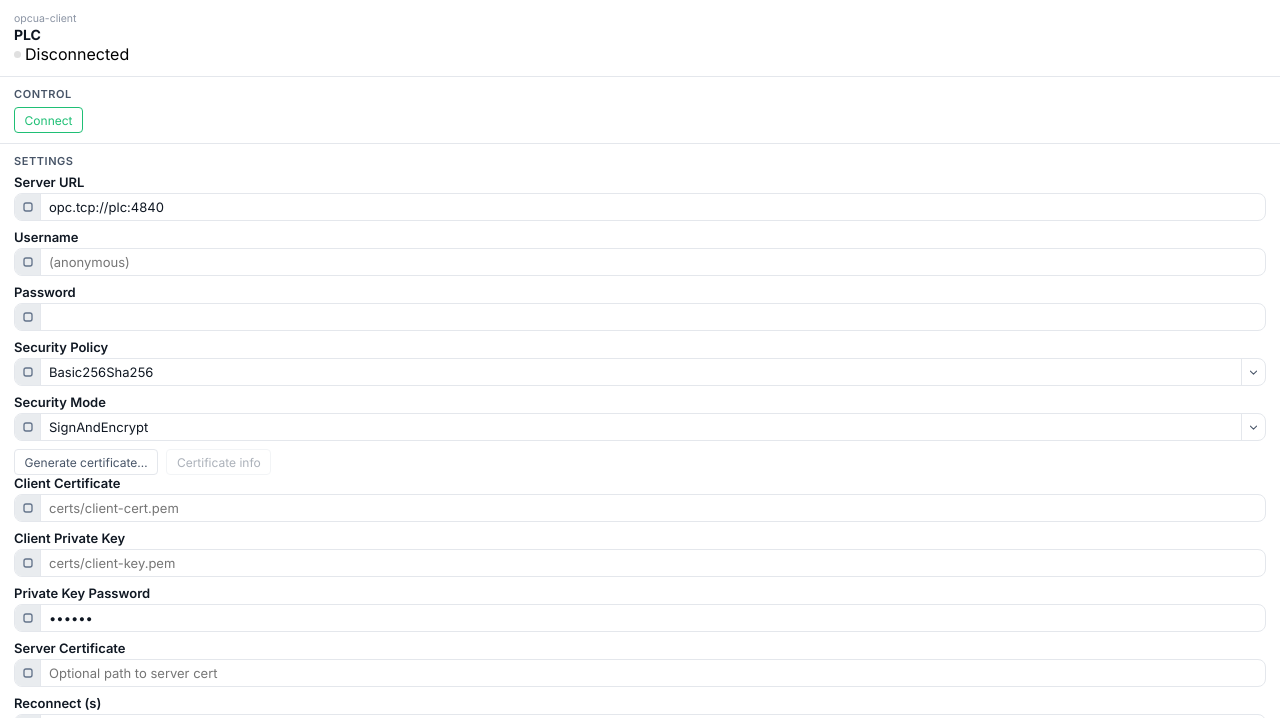
Scenario: DatasourcePropertiesPanel › CertificateControls › generates a cert pair for the datasource name and populates cert, key and clears the key password
Click the button "Generate certificate…": (86, 462) [14,449,158,475]
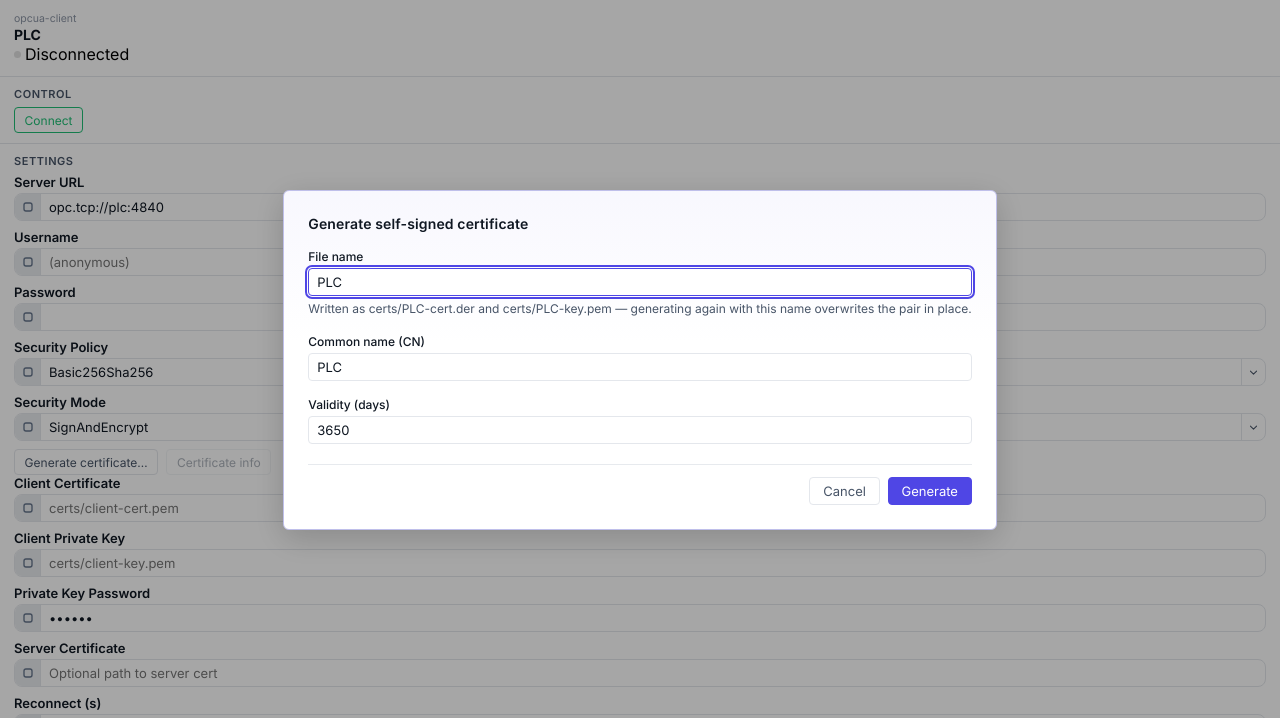
Click the button "Generate": (930, 491) [888,477,972,505]
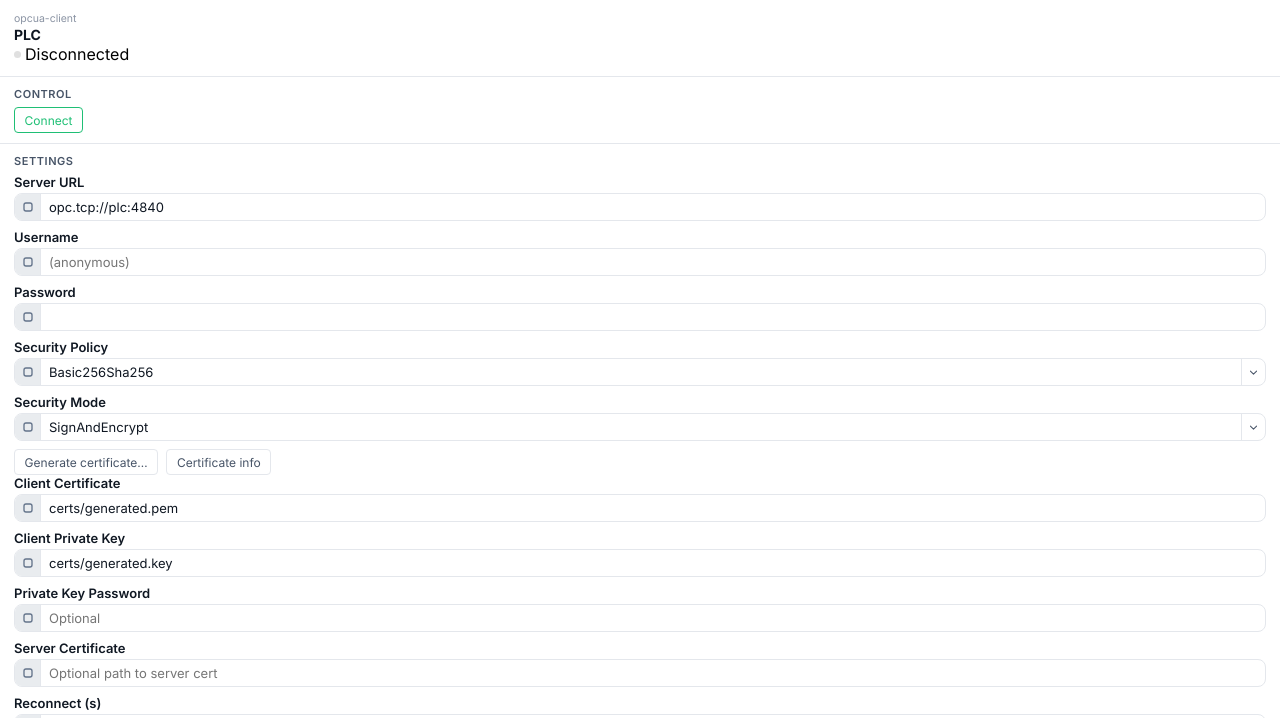
Expected: the field with placeholder "certs/client-cert.pem" below "Client Certificate" holds "certs/generated.pem", [49,497,1257,519]
Expected: the field with placeholder "certs/client-key.pem" below "Client Private Key" holds "certs/generated.key", [49,552,1257,574]
Expected: the password field with placeholder "Optional" is empty, [49,607,1257,629]
